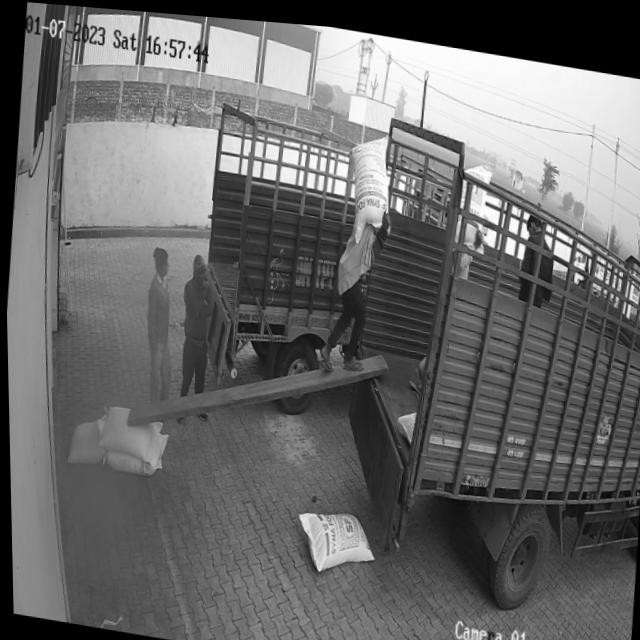sack: (340, 122, 395, 243), (291, 499, 376, 575), (94, 400, 163, 461), (99, 420, 167, 477), (64, 414, 106, 468)
